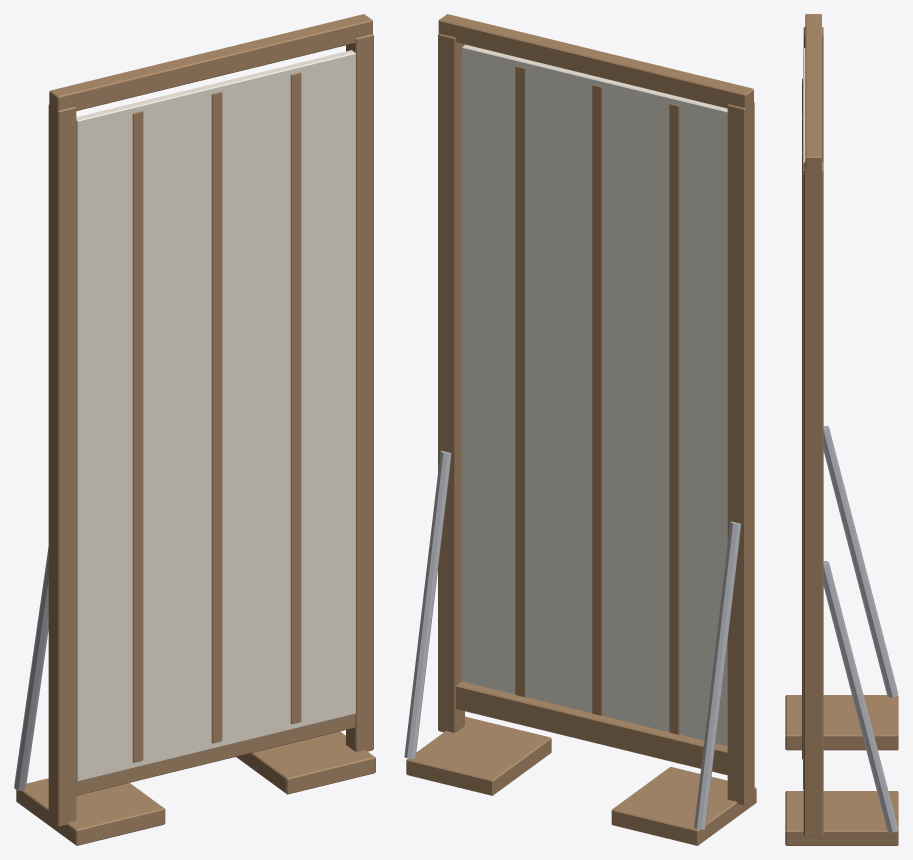
The model's file is orchestra-and-band-instruments-acoustic-shell-panel-998f608e__39323.glb.
3 renders of one model, left to right at view 1: azimuth 30°, elevation 25°; view 2: azimuth 150°, elevation 25°; view 3: azimuth 270°, elevation 25°, orthographic. The views are drawn at different scales.
Parts seen in each view (by area): view 1: acoustic-shell-panel; view 2: acoustic-shell-panel; view 3: acoustic-shell-panel.
Part boxes in pixels (<box>): acoustic-shell-panel: <box>14,14,375,845</box>; acoustic-shell-panel: <box>404,14,756,845</box>; acoustic-shell-panel: <box>785,14,898,845</box>.
Bounding box in the file's own units: 1.2 × 2.7 × 0.3998.
